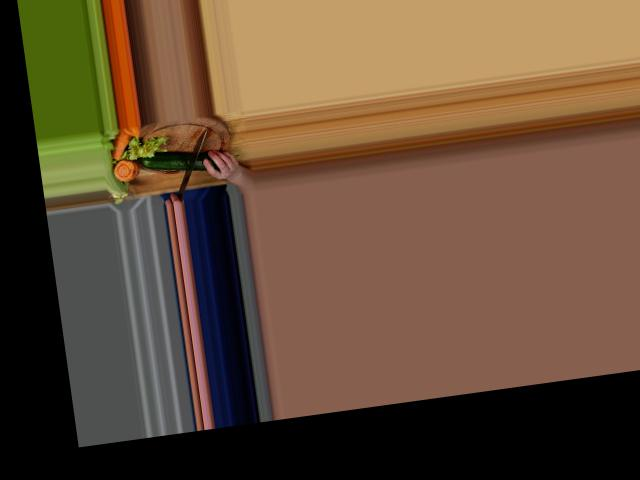cucumber: (139, 145, 218, 179)
